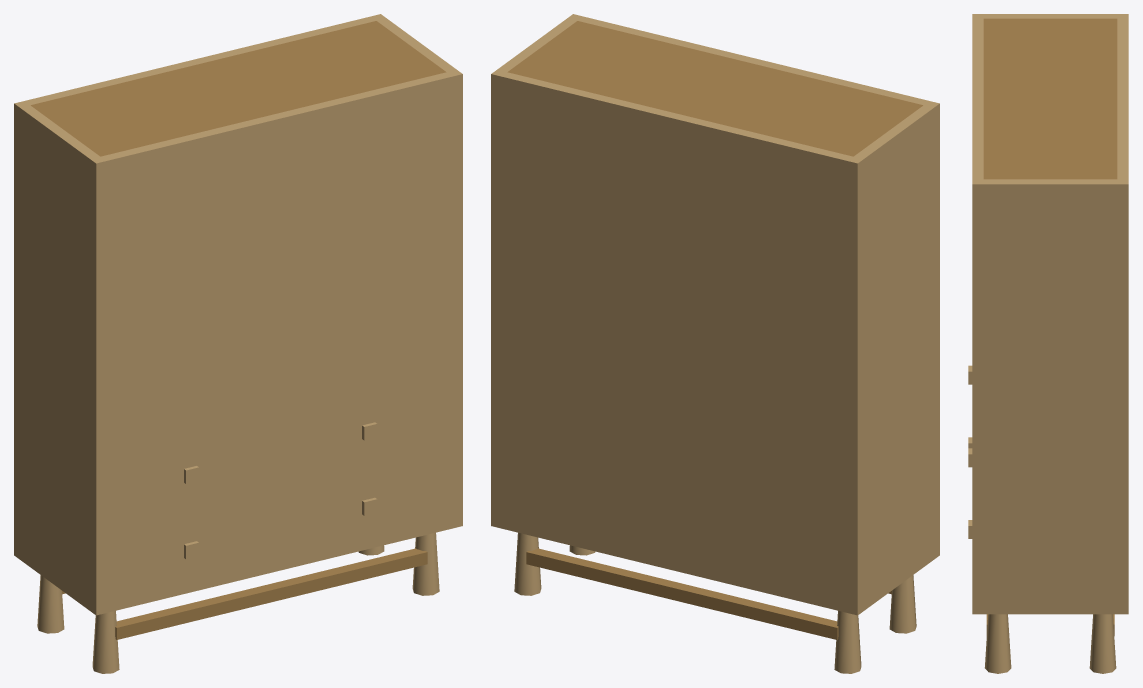
Rendered from nord-bookshelf.glb.
3 renders of one model, left to right at view 1: azimuth 30°, elevation 25°; view 2: azimuth 150°, elevation 25°; view 3: azimuth 270°, elevation 25°, orthographic. The views are drawn at different scales.
Parts seen in each view (by area): view 1: Nord3TierBookshelf; view 2: Nord3TierBookshelf; view 3: Nord3TierBookshelf.
Boxes of the visible parts, left/top/right/bottom form: Nord3TierBookshelf: left=14, top=14, right=462, bottom=673; Nord3TierBookshelf: left=491, top=14, right=939, bottom=673; Nord3TierBookshelf: left=968, top=14, right=1128, bottom=673.
Bounding box in the file's own units: 0.787 × 1.07 × 0.313.
